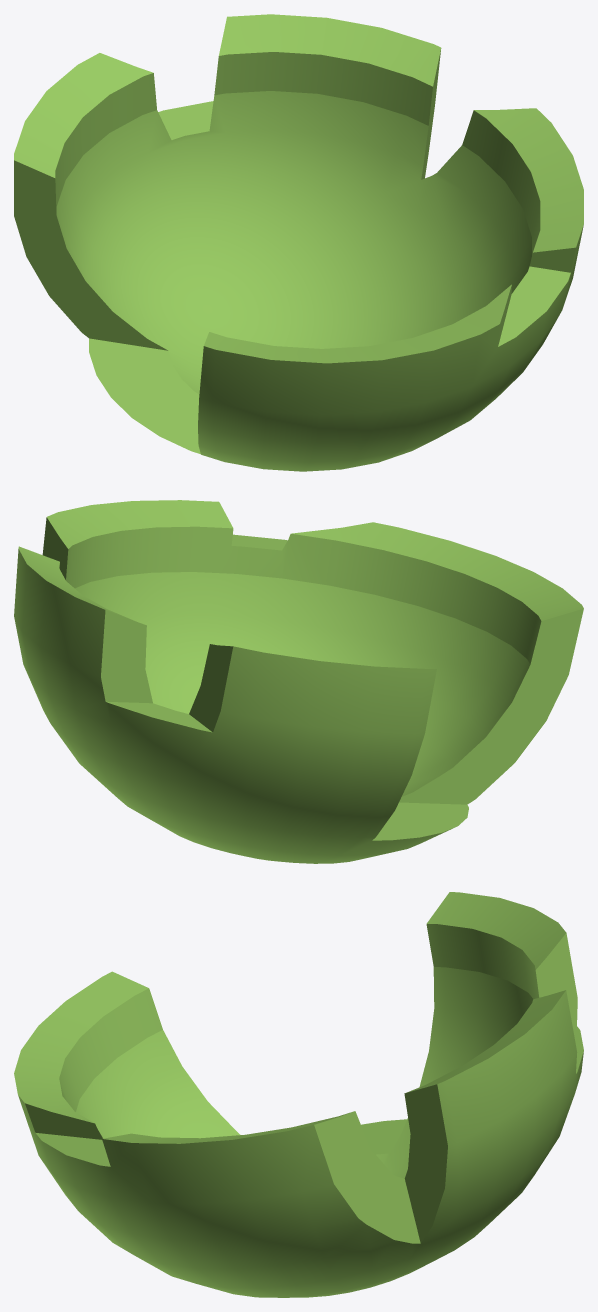
File: Debris26.obj
The picture shows the model from 3 angles, top to bottom: view 1: azimuth 30°, elevation 25°; view 2: azimuth 150°, elevation 25°; view 3: azimuth 270°, elevation 25°; orthographic projection.
Parts seen in each view (by area): view 1: Debris26; view 2: Debris26; view 3: Debris26.
Boxes of the visible parts, x1=… form: Debris26: x1=14, y1=14, x2=583, y2=471; Debris26: x1=14, y1=500, x2=583, y2=863; Debris26: x1=14, y1=892, x2=583, y2=1297.
Bounding box in the file's own units: 4.14 × 2.67 × 4.45.
